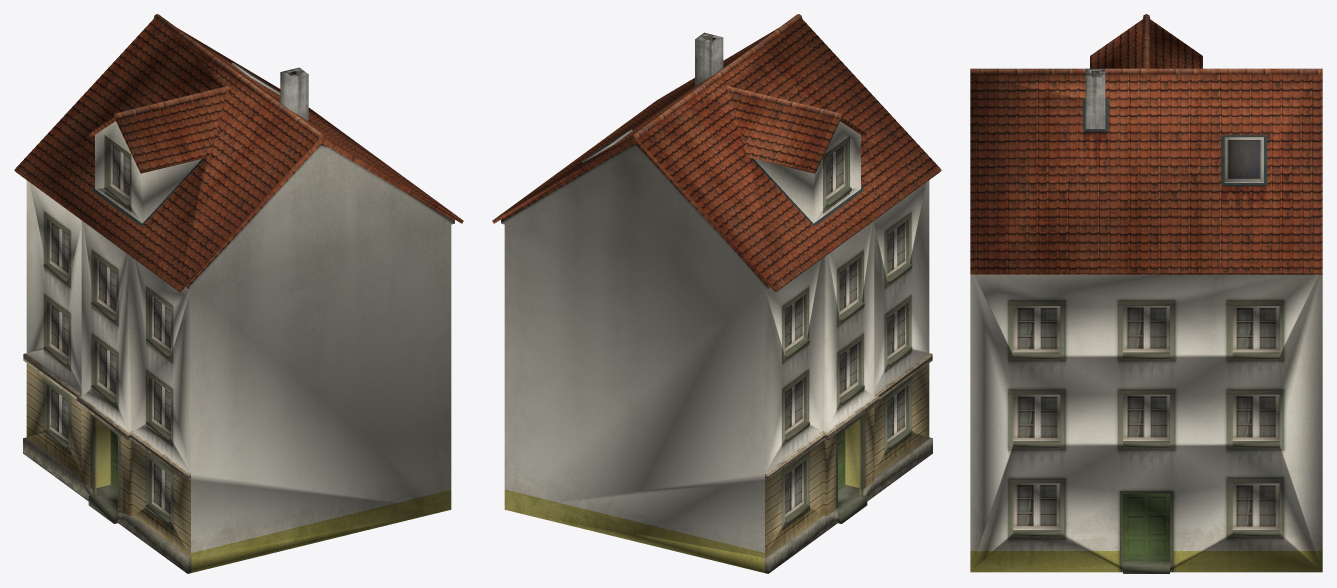
File: apartmenthouseE.obj
3 views of the same model, side by side, from view 1: azimuth 30°, elevation 25°; view 2: azimuth 150°, elevation 25°; view 3: azimuth 270°, elevation 25° (orthographic). The views are drawn at different scales.
Parts seen in each view (by area): view 1: Default; view 2: Default; view 3: Default.
Part boxes in pixels (<box>): Default: <box>14,14,463,573</box>; Default: <box>492,14,941,573</box>; Default: <box>970,14,1322,573</box>.
Size of the model in its own units: 9 by 12.6 by 9.
Materials: 1 (1 with a texture image).
